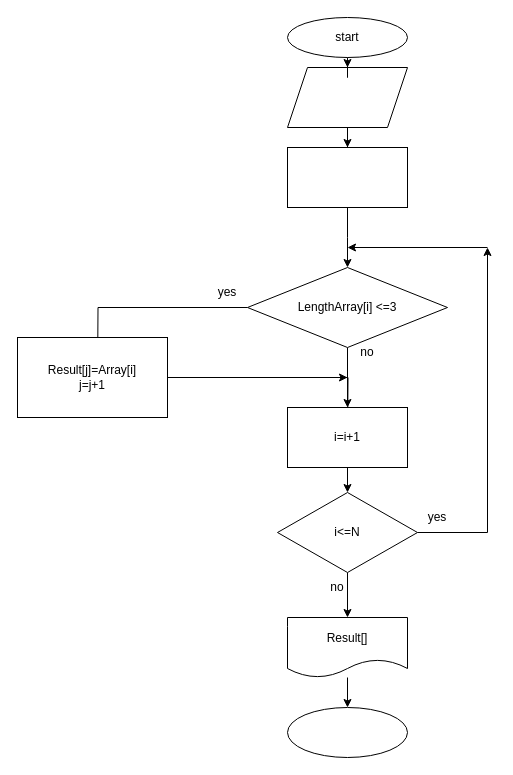
This 513x775 diagram has some shape labels left out. Each missing label, with the centre of its shape:
Array N: [347,97]
finish: [347,732]
i=1 j=1: [347,177]
